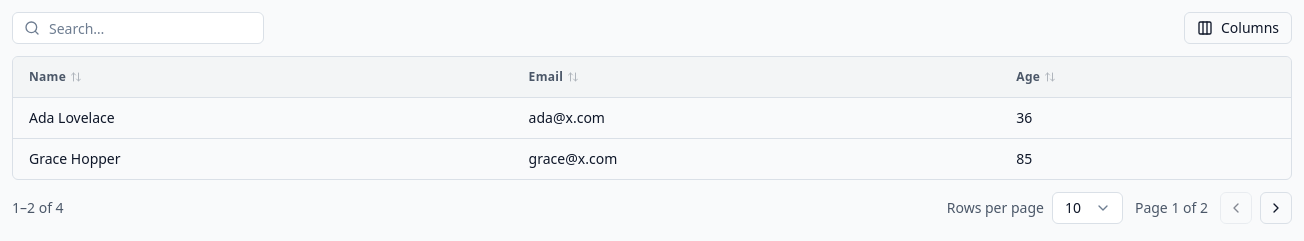
Test: DataTable › next page advances
Step 1. Click the button named "Next page" → (1276, 208), box [1260,192,1292,224]
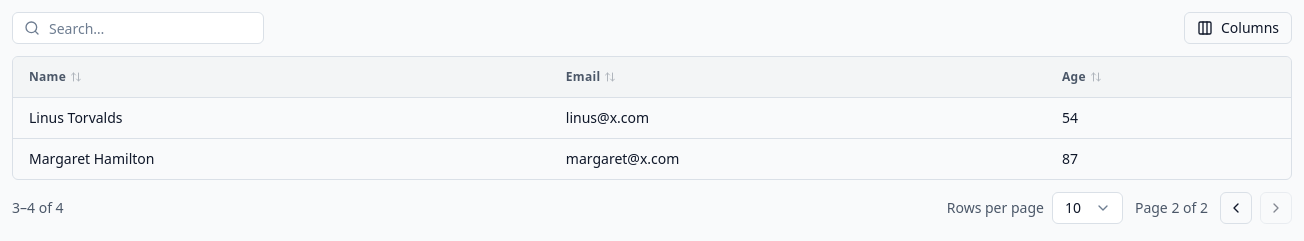
Result: the text "Linus Torvalds" is shown at [13,98,550,138]
Result: the text "Page 2 of 2" is shown at [1131,198,1212,218]
